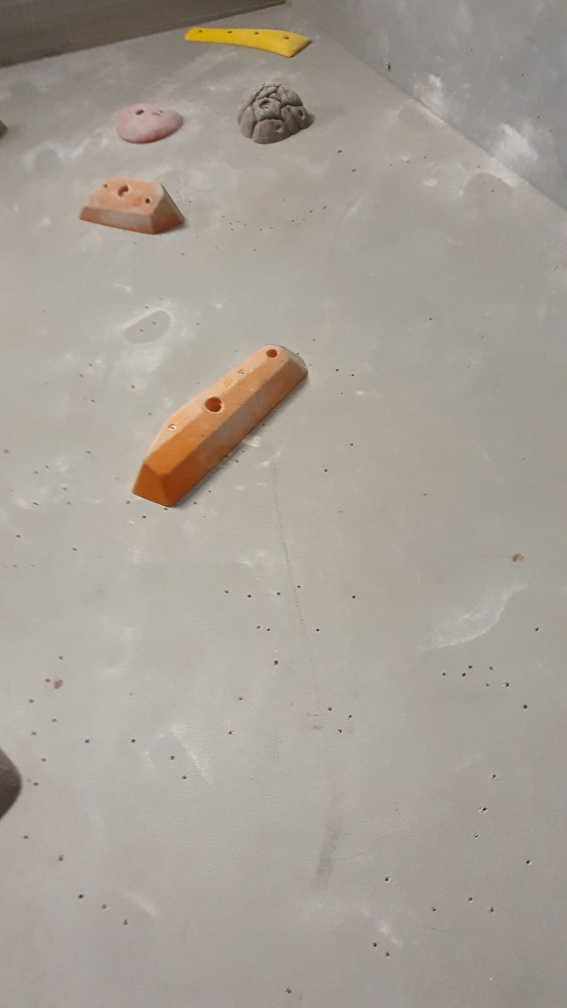Crimp: (183, 21, 316, 67)
Jug: (235, 77, 311, 148)
Pinch: (131, 336, 310, 515), (75, 176, 191, 242)
